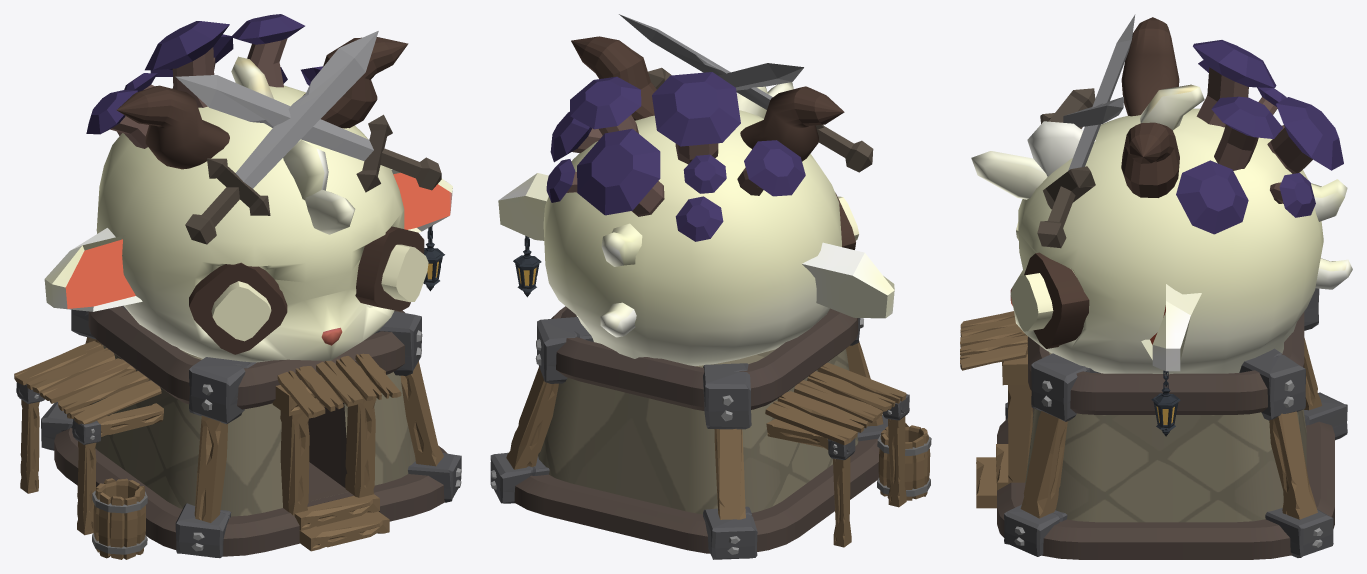
Rendered from Bingying_DU.fbx.
3 renders of one model, left to right at view 1: azimuth 30°, elevation 25°; view 2: azimuth 150°, elevation 25°; view 3: azimuth 270°, elevation 25°, orthographic. The views are drawn at different scales.
Parts seen in each view (by area): view 1: Base; view 2: Base; view 3: Base.
Part boxes in pixels (x1=…): Base: x1=14, y1=14, x2=461, y2=559; Base: x1=490, y1=14, x2=931, y2=559; Base: x1=960, y1=14, x2=1352, y2=559.
Bounding box in the file's own units: 70.72 × 74.16 × 60.14.
